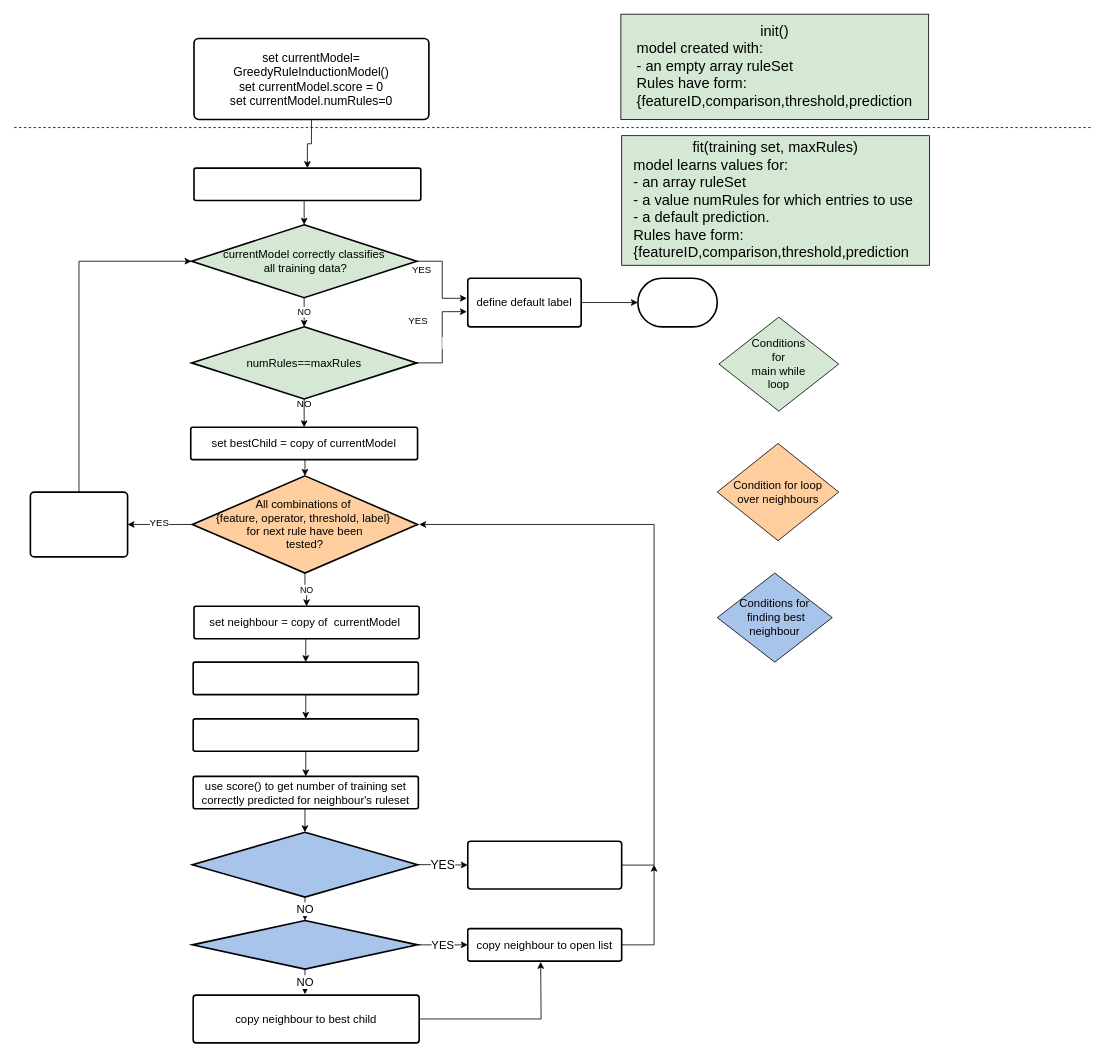
This 1106x1058 diagram has some shape labels left out. Here are the shapes that lost their labels. From the top down, the centre of each, then its label:
the point at 307,184: Preprocess training data
the point at 677,302: Exit
the point at 78,524: copy ruleset and score from best child to currentModel
the point at 305,678: make new rule (combination of the four values)
the point at 305,735: copy new rule to next empty position neighbour's ruleset
the point at 304,864: some incorrect predictions
the point at 544,864: copy neighbour to closed list
the point at 304,944: fewer correct predictions than best child
